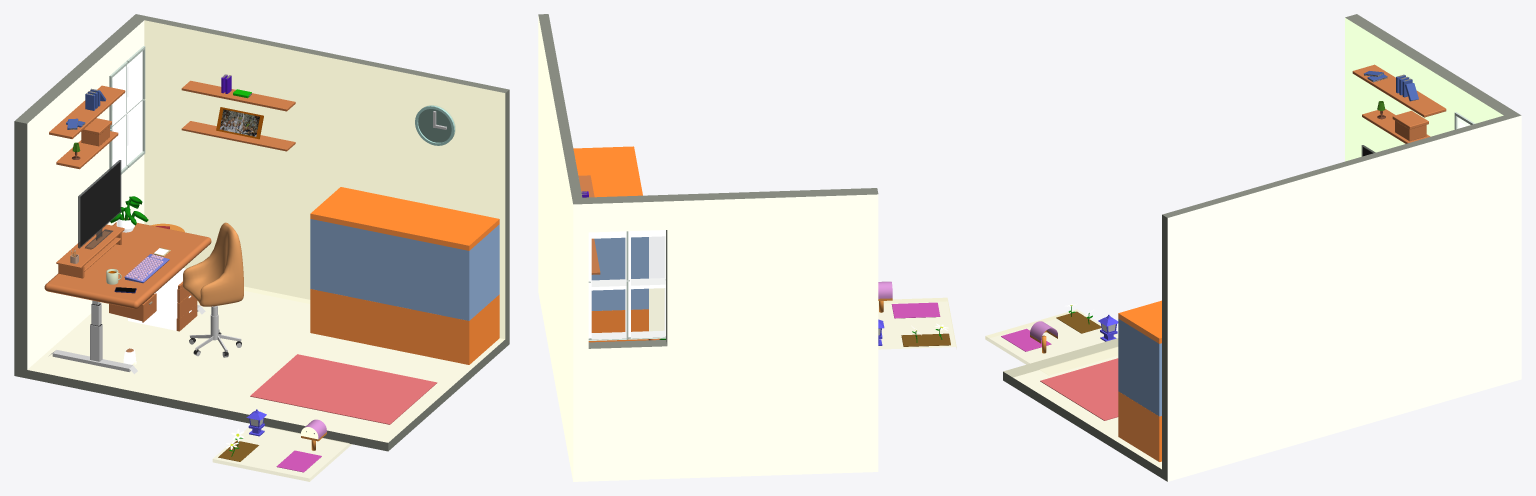
Rendered from Final Room.glb.
The picture shows the model from 3 angles, left to right: view 1: azimuth 30°, elevation 25°; view 2: azimuth 150°, elevation 25°; view 3: azimuth 270°, elevation 25°; orthographic projection. The views are drawn at different scales.
Visible parts, largest first — view 1: Room, Aquarium box, Aquarium water, Plane.009, Table Top, Window, Extra Floor, Chair sit, Screen.001, Table Top.002, Table Top.001, Clock (+10 smaller); view 2: Room, Aquarium box, Aquarium water, Window, Extra Floor, Plane.008, Ground; view 3: Room, Aquarium water, Aquarium box, Extra Floor, Plane.009, Shelf, Box, Shelf.001.
Part boxes in pixels (left/top/right/bottom): Room: left=14, top=14, right=509, bottom=451; Aquarium box: left=310, top=187, right=499, bottom=364; Aquarium water: left=310, top=219, right=499, bottom=320; Plane.009: left=250, top=354, right=437, bottom=424; Table Top: left=44, top=222, right=211, bottom=308; Window: left=109, top=46, right=145, bottom=174; Extra Floor: left=212, top=426, right=351, bottom=481; Chair sit: left=183, top=222, right=243, bottom=306; Screen.001: left=80, top=162, right=120, bottom=246; Table Top.002: left=56, top=224, right=124, bottom=278; Table Top.001: left=128, top=268, right=185, bottom=330; Clock: left=415, top=105, right=455, bottom=145; Room: left=538, top=14, right=878, bottom=481; Aquarium box: left=573, top=146, right=648, bottom=342; Aquarium water: left=591, top=237, right=648, bottom=310; Window: left=588, top=230, right=665, bottom=340; Extra Floor: left=878, top=297, right=956, bottom=349; Plane.008: left=891, top=302, right=940, bottom=318; Ground: left=901, top=333, right=950, bottom=346; Room: left=1003, top=14, right=1521, bottom=481; Aquarium water: left=1118, top=319, right=1161, bottom=416; Aquarium box: left=1118, top=300, right=1161, bottom=461; Extra Floor: left=985, top=309, right=1118, bottom=374; Plane.009: left=1040, top=358, right=1118, bottom=420; Shelf: left=1352, top=64, right=1446, bottom=117; Box: left=1392, top=110, right=1428, bottom=141; Shelf.001: left=1362, top=109, right=1430, bottom=143.
Bounding box in the file's own units: 15.58 × 9.5 × 17.3.
53 materials, 1 textured.
